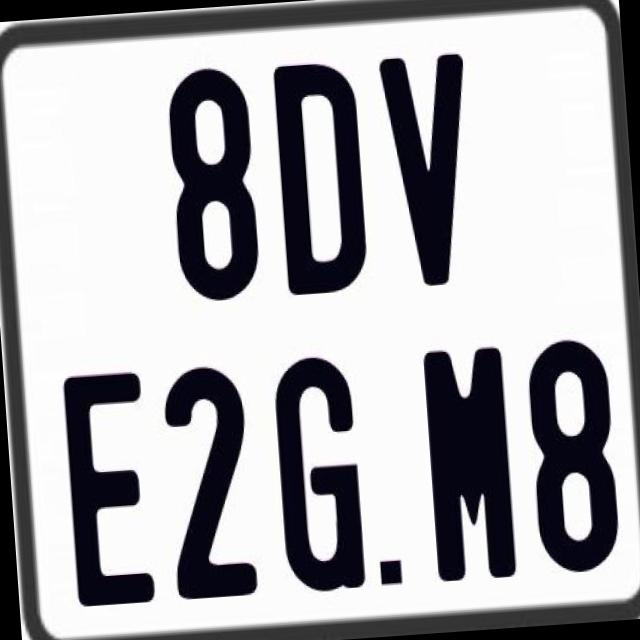2: (160, 364, 263, 602)
8: (162, 65, 267, 311), (523, 332, 621, 576)
D: (269, 56, 370, 298)
E: (59, 369, 154, 612)
G: (272, 354, 366, 592)
M: (421, 346, 523, 583)
V: (376, 53, 484, 288)
